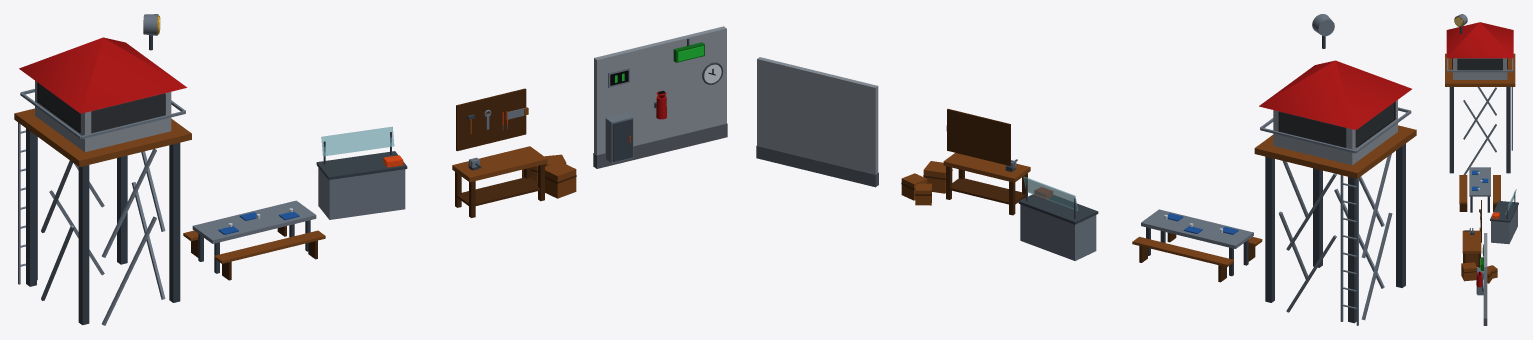
The model's file is prison-tier1.obj.
3 views of the same model, side by side, from view 1: azimuth 30°, elevation 25°; view 2: azimuth 150°, elevation 25°; view 3: azimuth 270°, elevation 25° (orthographic). The views are drawn at different scales.
Visible parts, largest first — view 1: wall_panel, cabin_roof, tower_leg, cabin_walls, counter_body, tower_brace, pegboard, tower_platform, cabin_window, table_top, workbench_top, wall_skirt (+12 smaller); view 2: wall_panel, cabin_roof, tower_leg, cabin_walls, counter_body, pegboard, tower_brace, tower_platform, cabin_window, table_top, wall_skirt, crate (+8 smaller); view 3: cabin_roof, cabin_walls, tower_leg, tower_platform, cabin_window, counter_body, table_top, tower_brace, bench_top, workbench_top, crate, counter_top (+11 smaller).
Boxes of the visible parts, x1,y1,x2,y2 form: wall_panel: [594, 26, 726, 154]; cabin_roof: [19, 37, 187, 113]; tower_leg: [26, 128, 180, 325]; cabin_walls: [35, 81, 171, 151]; counter_body: [318, 167, 405, 219]; tower_brace: [41, 149, 165, 325]; pegboard: [456, 88, 526, 151]; tower_platform: [14, 108, 191, 166]; cabin_window: [37, 82, 165, 133]; table_top: [192, 200, 316, 243]; workbench_top: [452, 146, 547, 182]; wall_skirt: [593, 123, 727, 168]; wall_panel: [757, 57, 878, 174]; cabin_roof: [1259, 60, 1411, 129]; tower_leg: [1265, 143, 1405, 323]; cabin_walls: [1273, 100, 1397, 165]; counter_body: [1020, 204, 1096, 260]; pegboard: [947, 109, 1010, 165]; tower_brace: [1278, 154, 1392, 320]; tower_platform: [1254, 125, 1416, 178]; cabin_window: [1278, 101, 1395, 147]; table_top: [1141, 209, 1253, 248]; wall_skirt: [756, 145, 878, 187]; crate: [901, 161, 952, 205]; cabin_roof: [1446, 22, 1513, 58]; cabin_walls: [1453, 58, 1507, 79]; tower_leg: [1449, 87, 1510, 173]; tower_platform: [1445, 53, 1515, 86]; cabin_window: [1452, 58, 1507, 70]; counter_body: [1491, 206, 1517, 244]; table_top: [1469, 167, 1490, 196]; tower_brace: [1463, 87, 1496, 174]; bench_top: [1459, 175, 1500, 203]; workbench_top: [1462, 230, 1481, 253]; crate: [1461, 262, 1497, 283]; counter_top: [1490, 201, 1518, 222].
Bounding box in the file's own units: 15.81 × 6.42 × 2.74.
